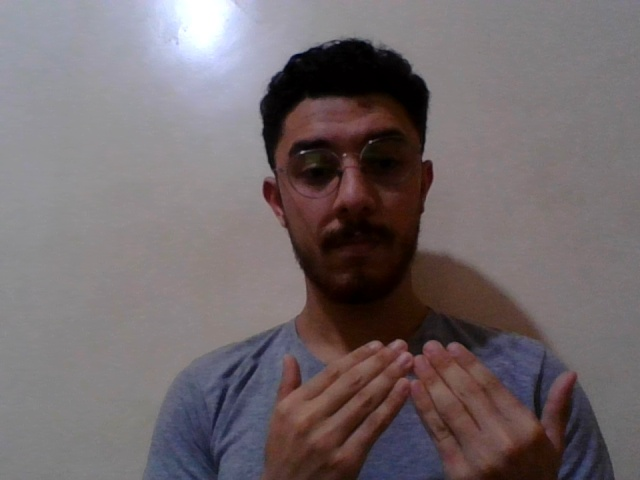Thank You: (243, 333, 593, 480)
